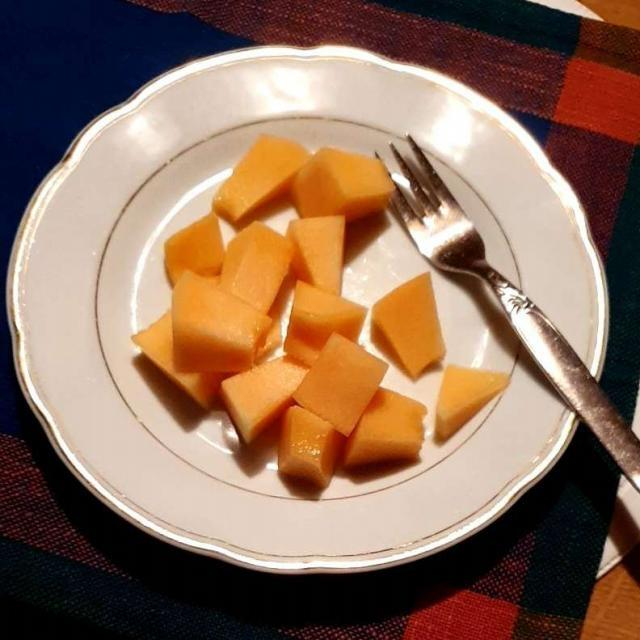melon: (140, 144, 451, 491)
